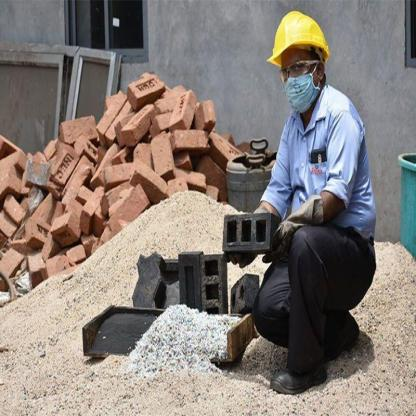brick: (0, 71, 253, 307), (83, 213, 280, 358)
